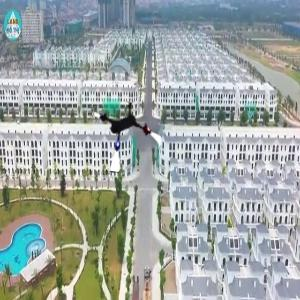drone: (85, 97, 166, 178)
